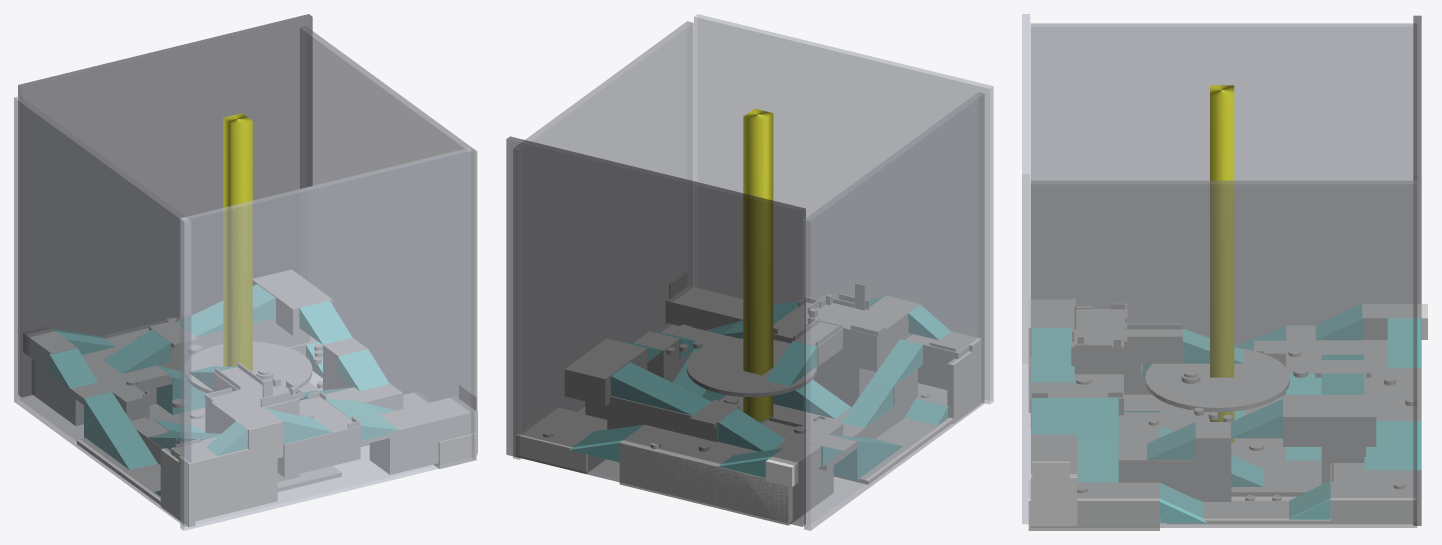
File: level_whitebox_col.glb
3 renders of one model, left to right at view 1: azimuth 30°, elevation 25°; view 2: azimuth 150°, elevation 25°; view 3: azimuth 270°, elevation 25°, orthographic. The views are drawn at different scales.
Parts seen in each view (by area): view 1: col_平台.022, col_平台.014, col_平台.008, col_平台.020, col_平台, col_平台.050, col_平台.031, col_平台.057, ramp_平台.011, col_平台.058, col_平台.059, colcyl_平台 (+26 smaller); view 2: col_平台.014, col_平台.022, col_平台.008, col_平台.020, col_平台.058, col_平台, colcyl_平台, col_平台.139, col_平台.059, col_平台.009, ramp_平台.016, col_平台.031 (+27 smaller); view 3: col_平台.020, col_平台.008, col_平台, colcyl_平台, col_平台.035, col_平台.139, col_平台.009, col_平台.014, col_平台.022, col_平台.018, col_平台.058, col_平台.031 (+29 smaller).
Boxes of the visible parts, x1,y1,x2,y2 form: col_平台.022: (180,147,474,530); col_平台.014: (18,14,312,397); col_平台.008: (14,96,190,526); col_平台.020: (300,26,477,454); col_平台: (223,113,252,370); col_平台.050: (178,443,277,522); col_平台.031: (370,396,477,474); col_平台.057: (278,397,360,477); ramp_平台.011: (84,392,156,469); col_平台.058: (32,313,195,425); col_平台.059: (205,390,283,458); colcyl_平台: (185,342,311,392); col_平台.014: (506,136,805,526); col_平台.022: (694,14,993,404); col_平台.008: (804,92,984,530); col_平台.020: (513,21,693,459); col_平台.058: (619,425,833,525); col_平台: (743,108,773,421); colcyl_平台: (687,339,816,396); col_平台.139: (516,407,606,473); col_平台.059: (842,295,920,371); col_平台.009: (565,339,646,405); ramp_平台.016: (611,362,710,415); col_平台.031: (666,286,742,330); col_平台.020: (1030,180,1417,527); col_平台.008: (1030,23,1416,345); col_平台: (1210,85,1234,442); colcyl_平台: (1145,348,1289,411); col_平台.035: (1124,395,1321,496); col_平台.139: (1330,463,1416,524); col_平台.009: (1283,395,1375,446); col_平台.014: (1413,15,1421,525); col_平台.022: (1022,14,1030,524); col_平台.018: (1028,480,1159,530); col_平台.058: (1322,340,1421,420); col_平台.031: (1030,434,1077,525).
Size of the model in its own units: 81.49 by 81.89 by 84.01.
